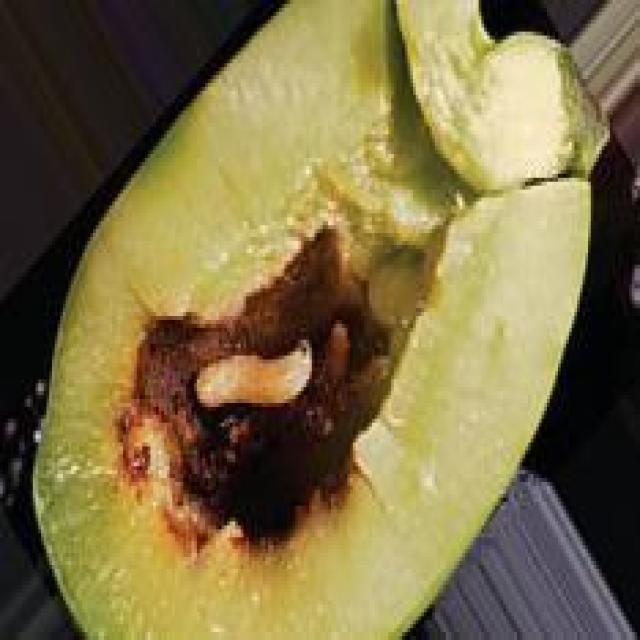Olive Fruit Fly: (34, 0, 588, 636)
